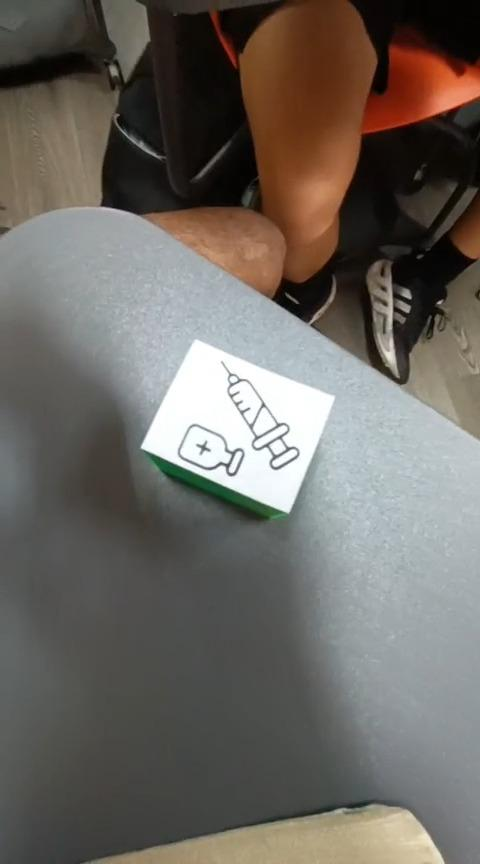antiseptic cream: (139, 337, 335, 521)
